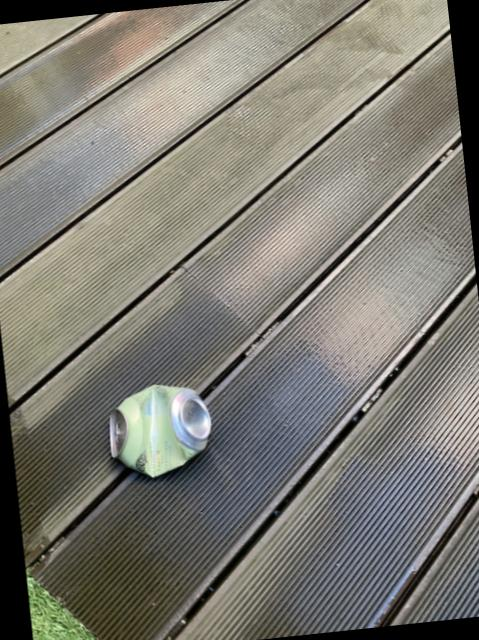metal: (107, 383, 208, 475)
